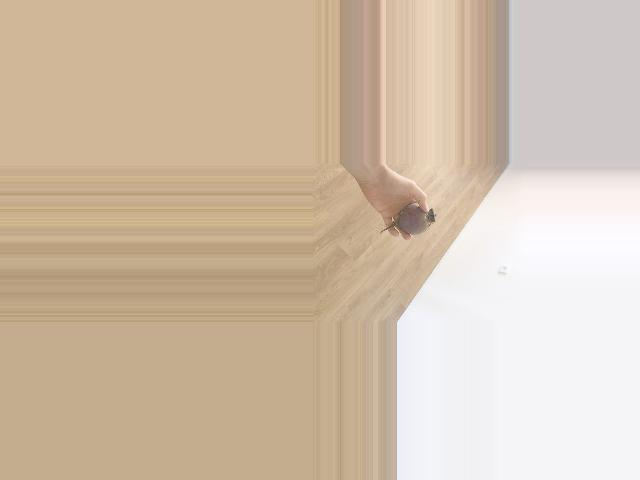beet: (380, 203, 435, 236)
